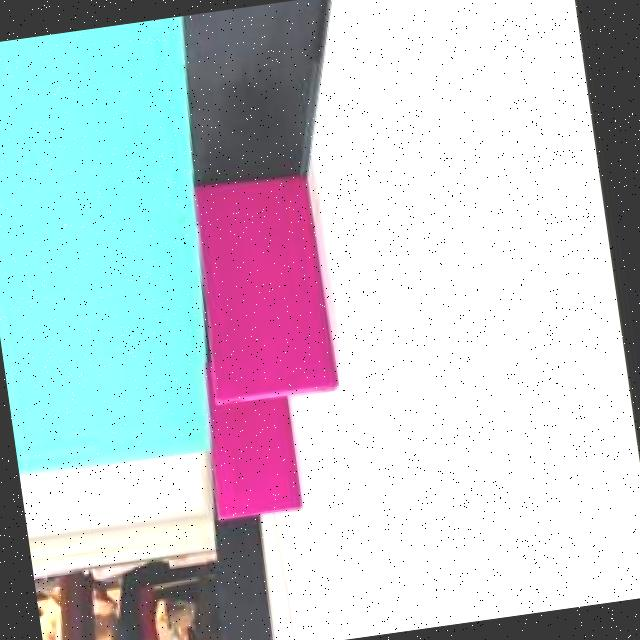xparking: (192, 174, 334, 406), (202, 399, 296, 519)
